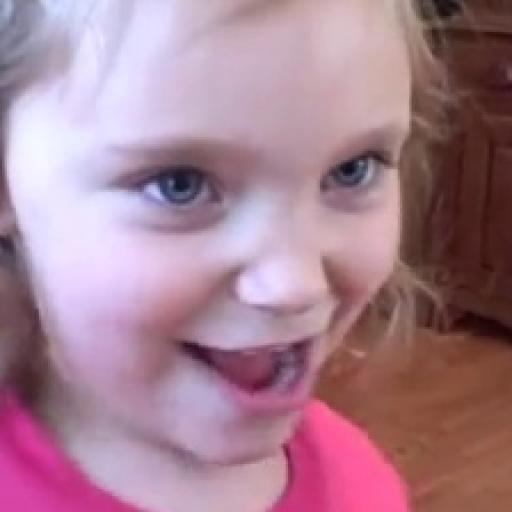Autism: (46, 27, 402, 499)
